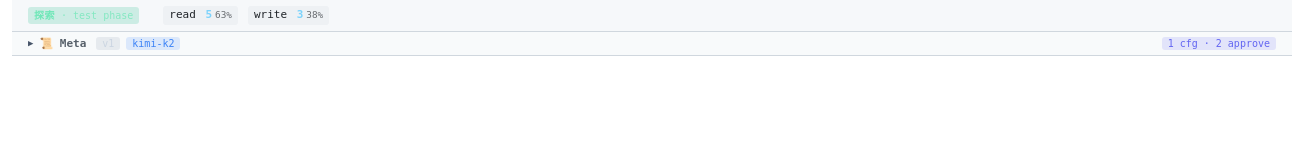
it: SessionOverview › metaBanner 点击 toggle 展开 detail
Step 1. Click the button with test id "meta-banner-toggle" → (63, 43), box [12,32,1292,54]
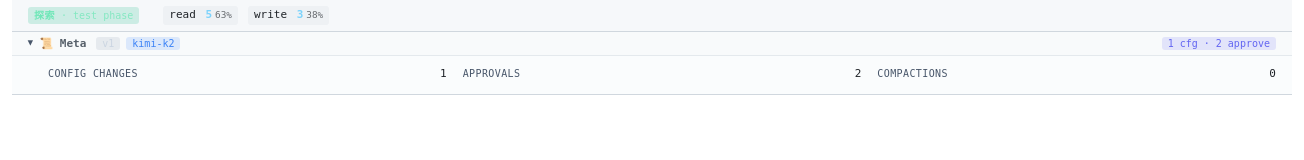
expect the element with test id "meta-banner-detail" is shown: met, box [12,54,1292,94]
